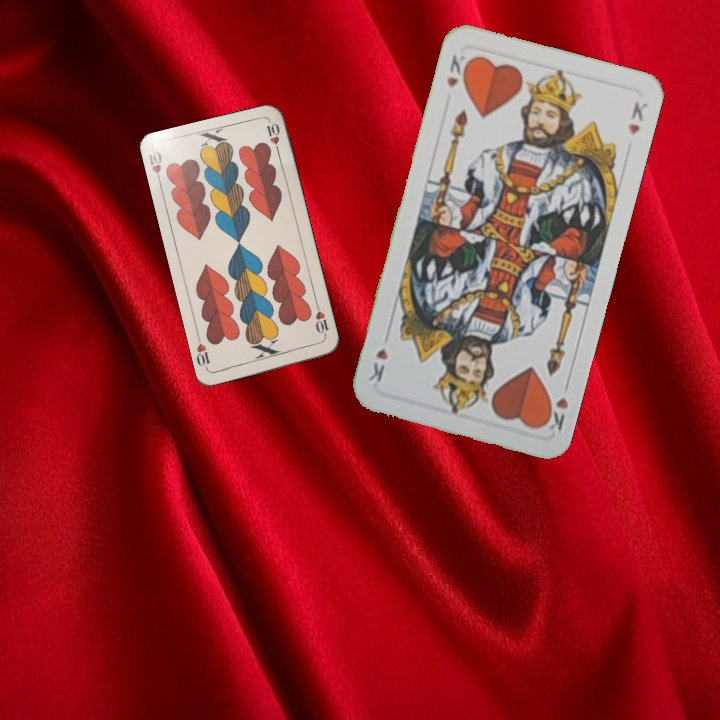H10: (311, 301, 332, 341), (144, 146, 164, 188)
HK: (539, 377, 572, 435), (442, 50, 474, 91)
